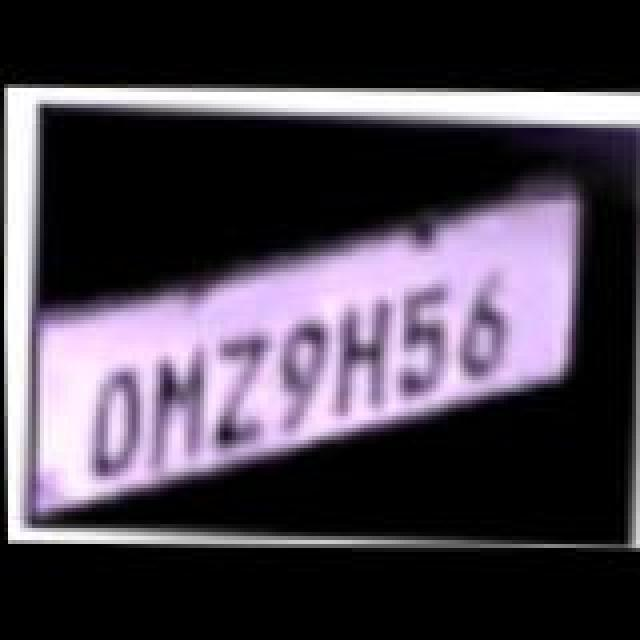5: (392, 284, 464, 404)
6: (452, 270, 524, 386)
9: (266, 318, 338, 438)
H: (330, 296, 406, 420)
M: (134, 350, 214, 478)
O: (76, 364, 152, 484)
Z: (194, 330, 274, 454)
